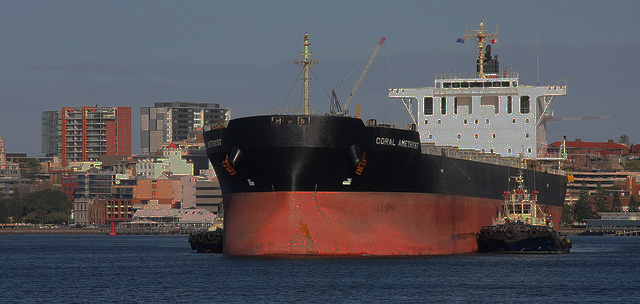bulk carrier: (207, 22, 578, 251)
tug_boat: (479, 161, 575, 257)
